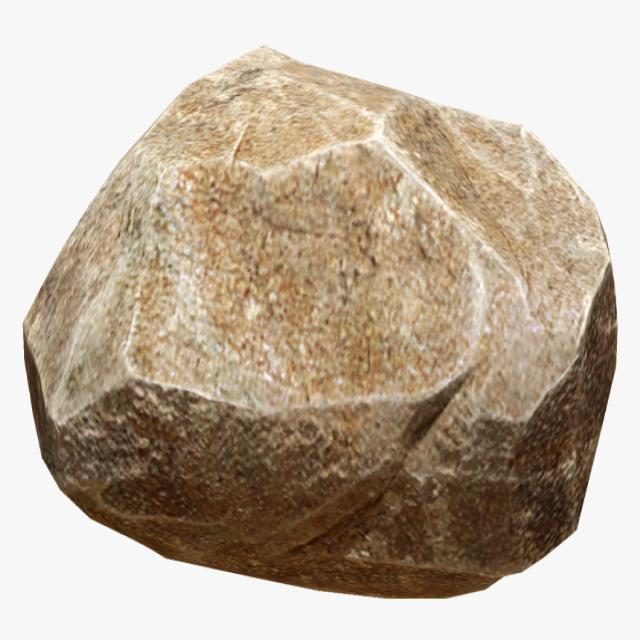Sedimentary: (18, 46, 617, 596)
